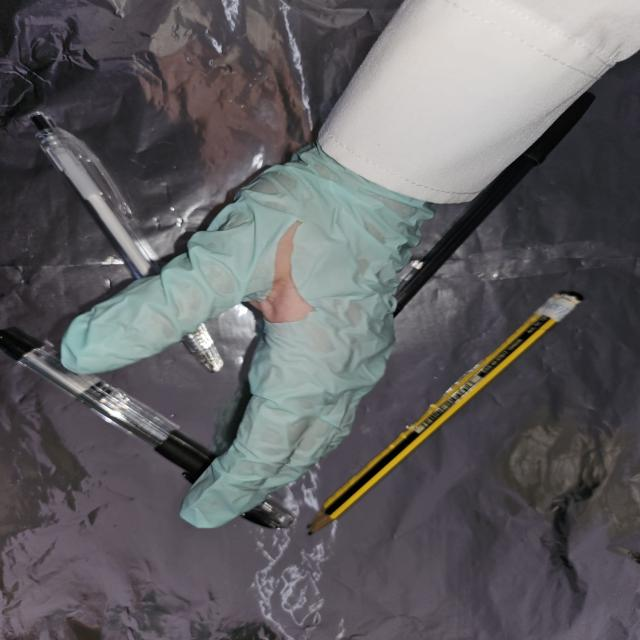gloves_damaged: (58, 138, 437, 531)
